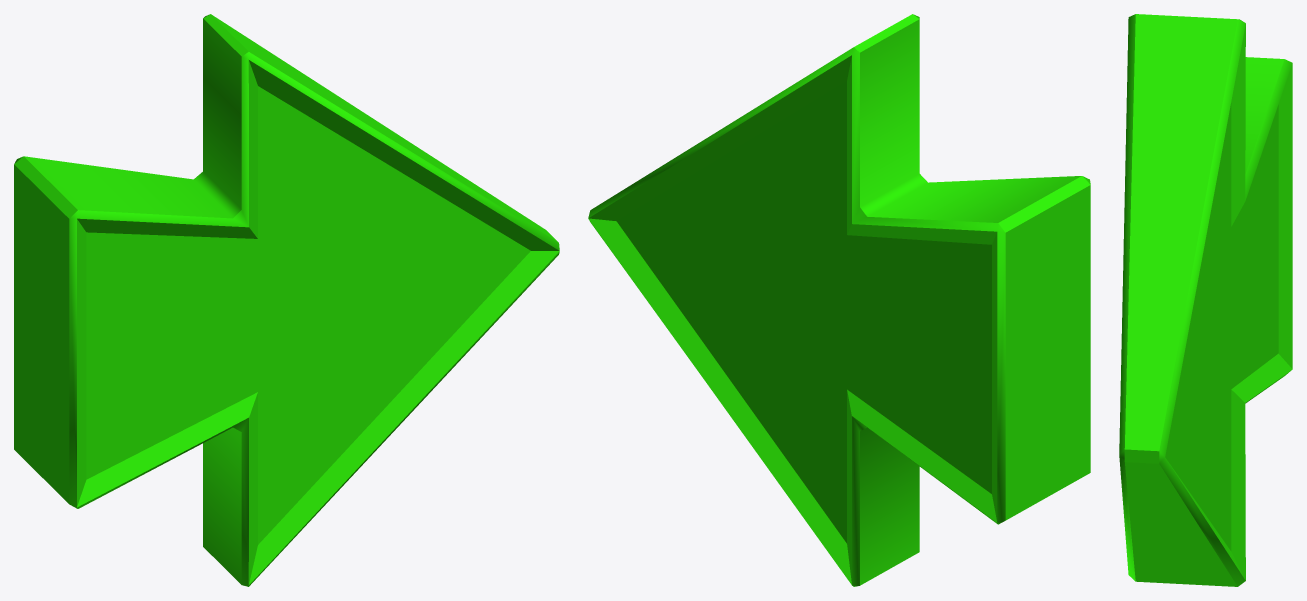
Rendered from arrow.glb.
The picture shows the model from 3 angles, left to right: view 1: azimuth 30°, elevation 25°; view 2: azimuth 150°, elevation 25°; view 3: azimuth 270°, elevation 25°; orthographic projection. The views are drawn at different scales.
Parts seen in each view (by area): view 1: node_id38; view 2: node_id38; view 3: node_id38.
Boxes of the visible parts, x1,y1,x2,y2 form: node_id38: (14, 14, 559, 586); node_id38: (588, 14, 1090, 586); node_id38: (1119, 14, 1292, 586).
Bounding box in the file's own units: 0.487 × 0.512 × 0.1418.
Materials: 1 (1 with a texture image).
